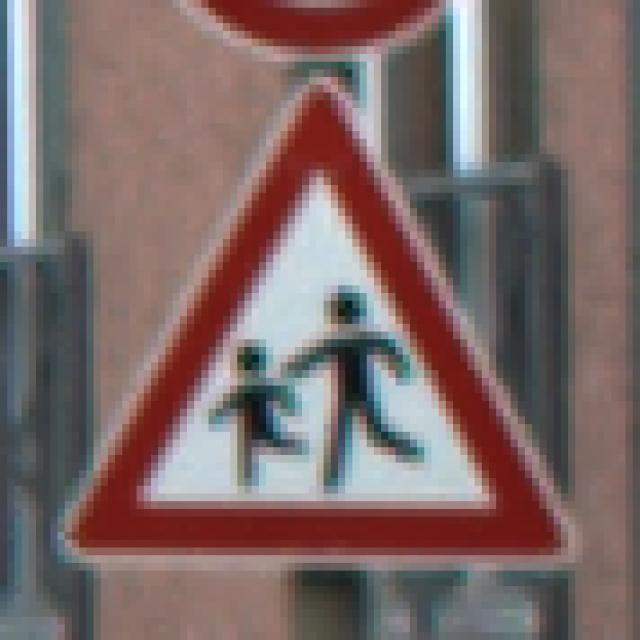school ahead: (53, 69, 588, 574)
